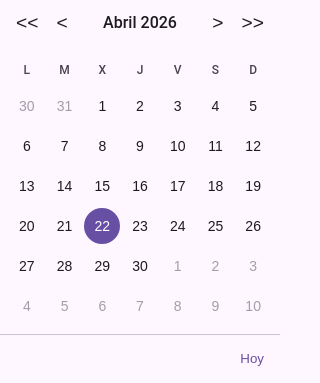
Test: DatePicker › should navigate to the previous and next year
This screenshot has width=320, height=383.
Click the button named "Año siguiente" at [253, 23], box [234, 8, 272, 38]
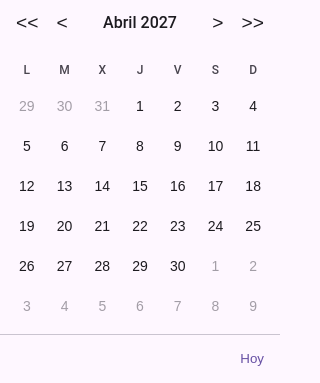
Check: the text "Abril 2027" is shown, box [103, 11, 177, 35]
Click the button named "Año anterior" at [27, 23], box [8, 8, 46, 38]
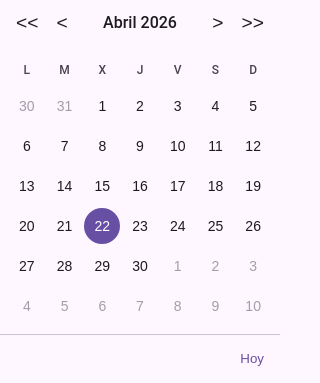
Click the button named "Año anterior" at [27, 23], box [8, 8, 46, 38]
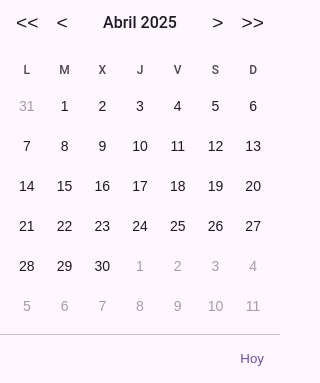
Check: the text "Abril 2025" is shown, box [103, 11, 177, 35]
